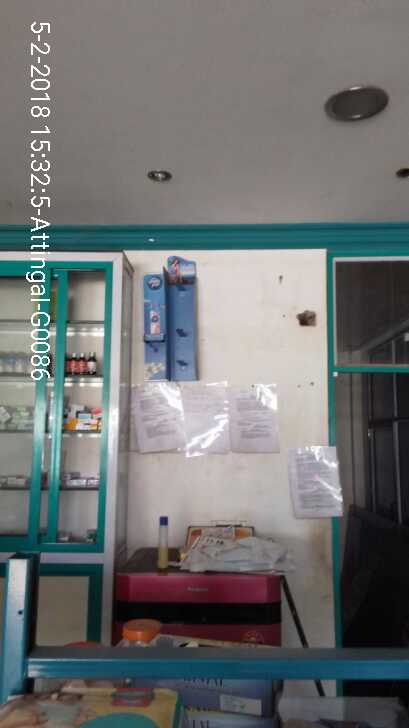reject: (154, 401, 255, 511)
